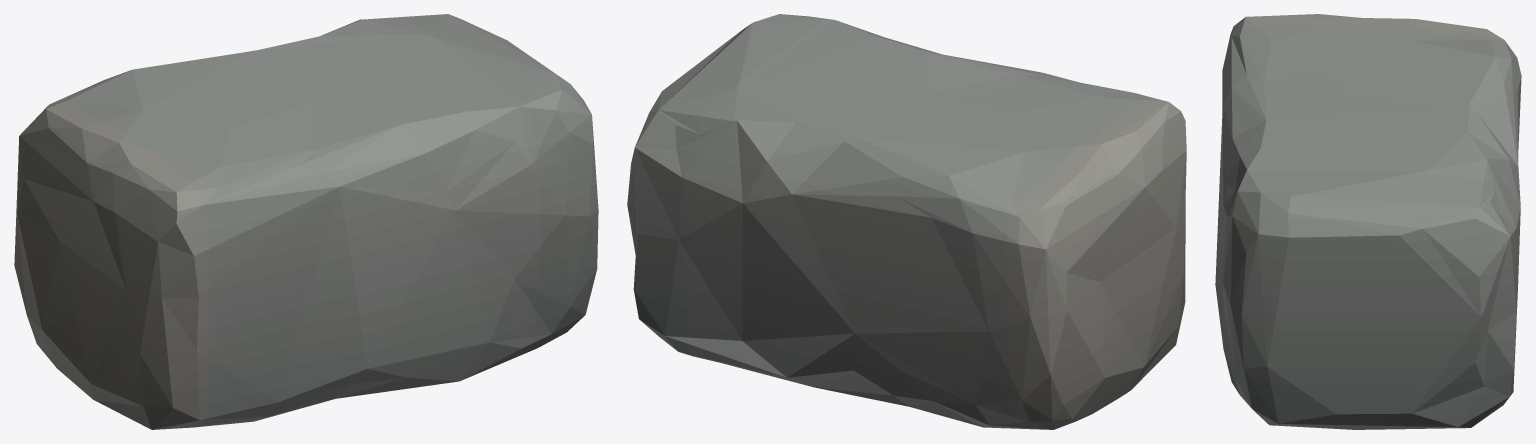
File: Obstacle.FBX
3 views of the same model, side by side, from view 1: azimuth 30°, elevation 25°; view 2: azimuth 150°, elevation 25°; view 3: azimuth 270°, elevation 25° (orthographic). The views are drawn at different scales.
Visible parts, largest first — view 1: cube_NewUVs_0010; view 2: cube_NewUVs_0010; view 3: cube_NewUVs_0010.
Part boxes in pixels (box(x1,y1,x2,y2)): cube_NewUVs_0010: box(14, 14, 598, 429); cube_NewUVs_0010: box(627, 14, 1186, 429); cube_NewUVs_0010: box(1215, 14, 1521, 429).
Size of the model in its own units: 682 by 423 by 367.
